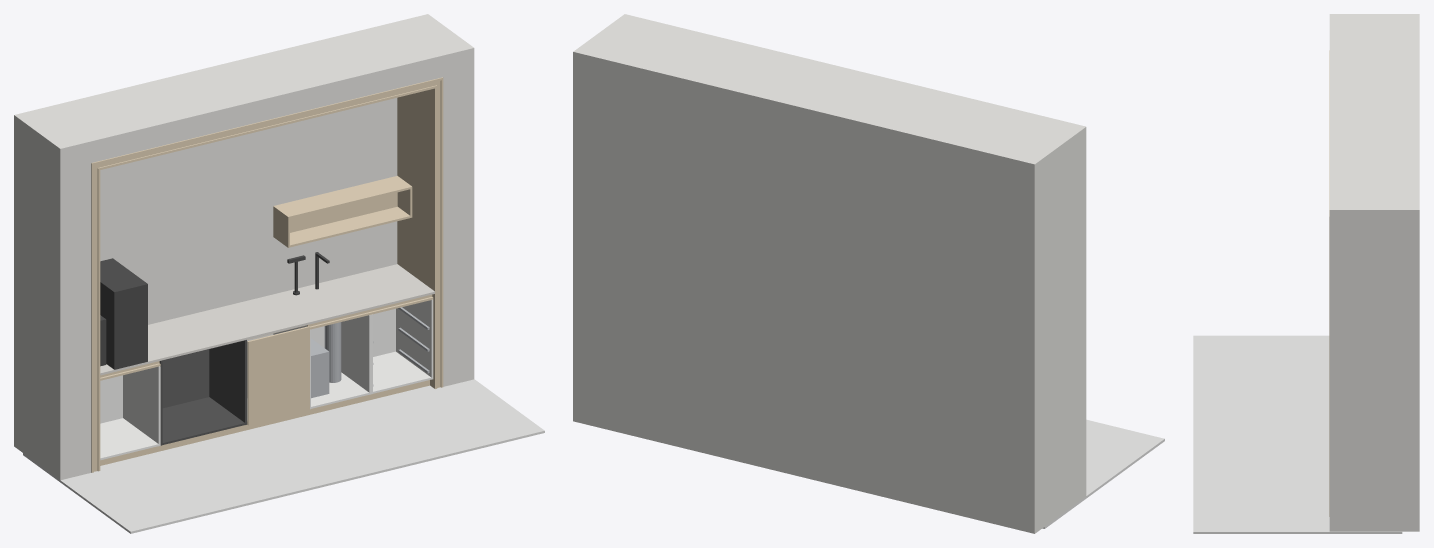
Rendered from korpus.glb.
3 views of the same model, side by side, from view 1: azimuth 30°, elevation 25°; view 2: azimuth 150°, elevation 25°; view 3: azimuth 270°, elevation 25° (orthographic). The views are drawn at different scales.
Size of the model in its own units: 4000 by 3078 by 1951.
